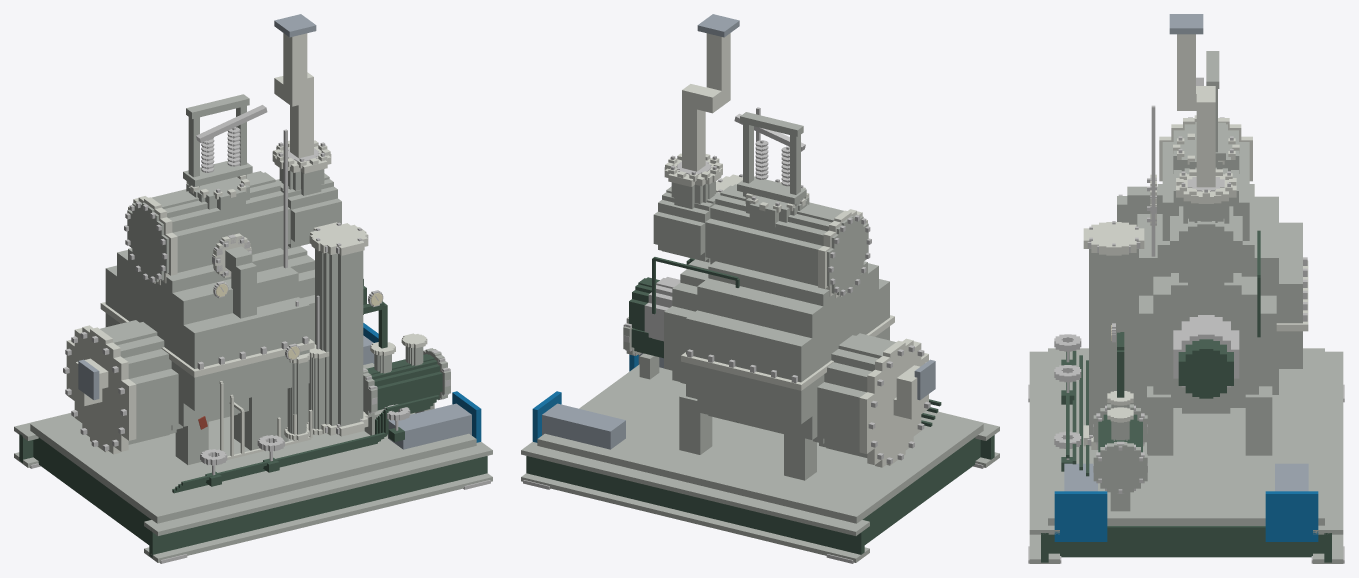
Rendered from item.obj.
3 renders of one model, left to right at view 1: azimuth 30°, elevation 25°; view 2: azimuth 150°, elevation 25°; view 3: azimuth 270°, elevation 25°, orthographic. The views are drawn at different scales.
Bounding box in the file's own units: 0.7209 × 0.9 × 0.5407.
